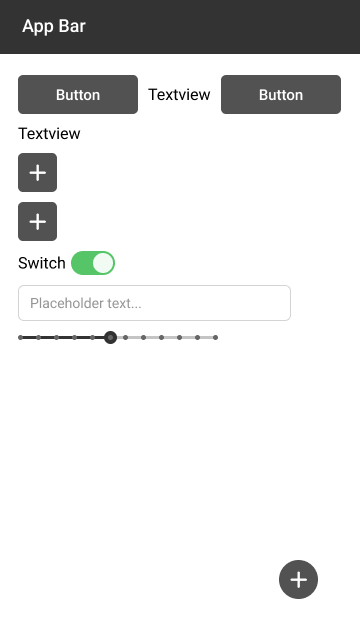button: (220, 73, 343, 117), (18, 74, 140, 115)
buttonIcon: (16, 150, 59, 194), (16, 202, 59, 240)
editText: (18, 282, 293, 326)
floatingButton: (276, 558, 319, 601)
slider: (16, 331, 222, 345)
switch: (18, 252, 120, 280)
textView: (17, 124, 84, 144), (147, 85, 210, 105)
toolbar: (1, 1, 359, 55)
